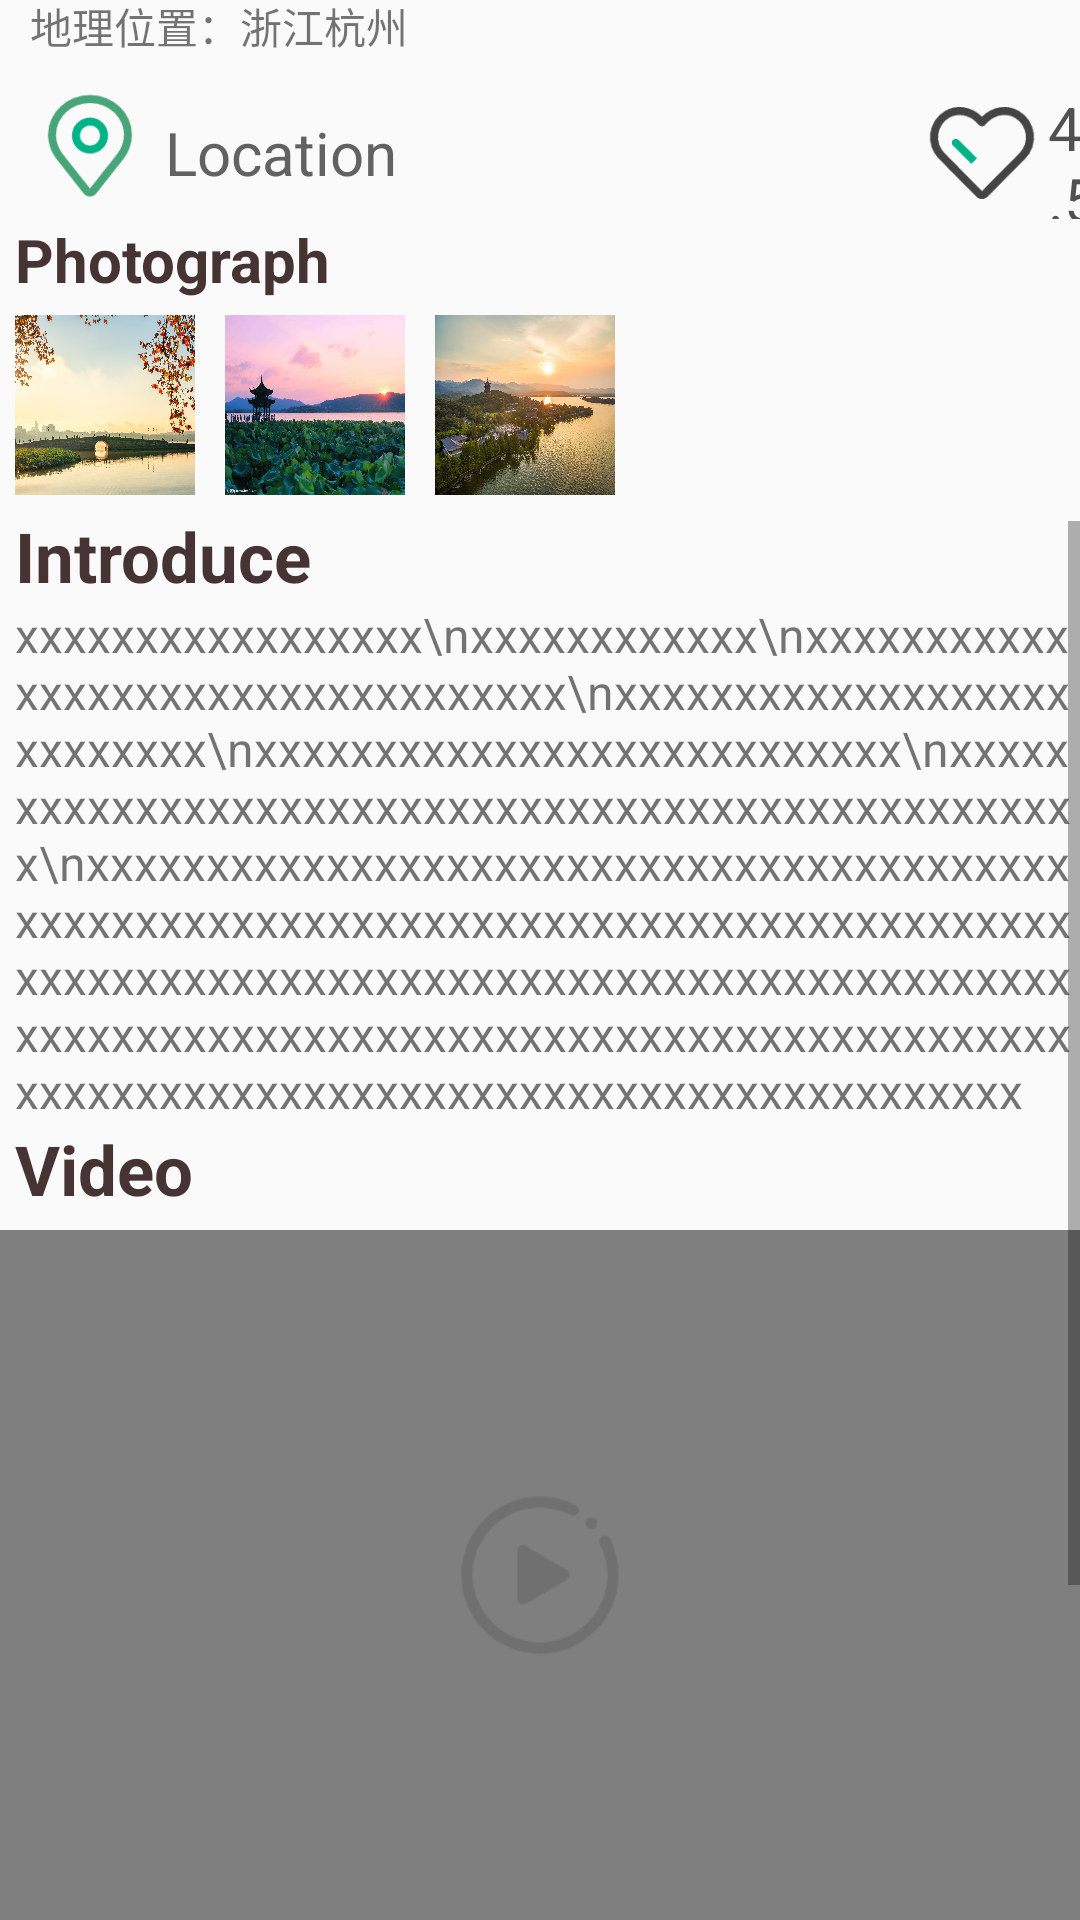

Named icons in this screenshot (1080w x 1920h) and their centers, (x,y):
locate: (90,145)
west lake: (105,405), (315,405), (525,405)
